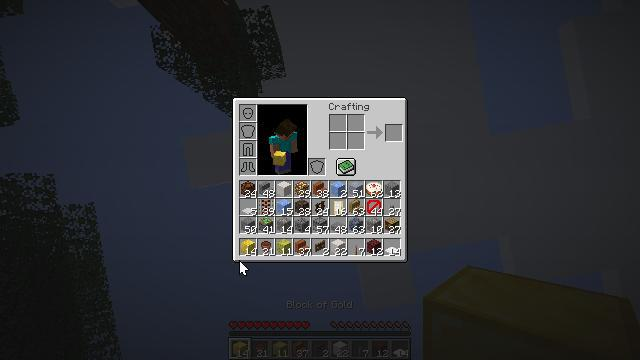cursor: (260, 239, 276, 249)
